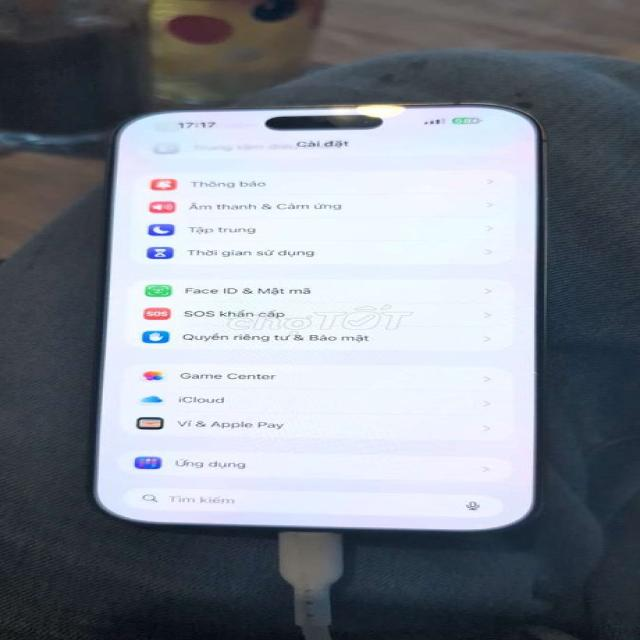gen_16: (95, 101, 544, 532)
